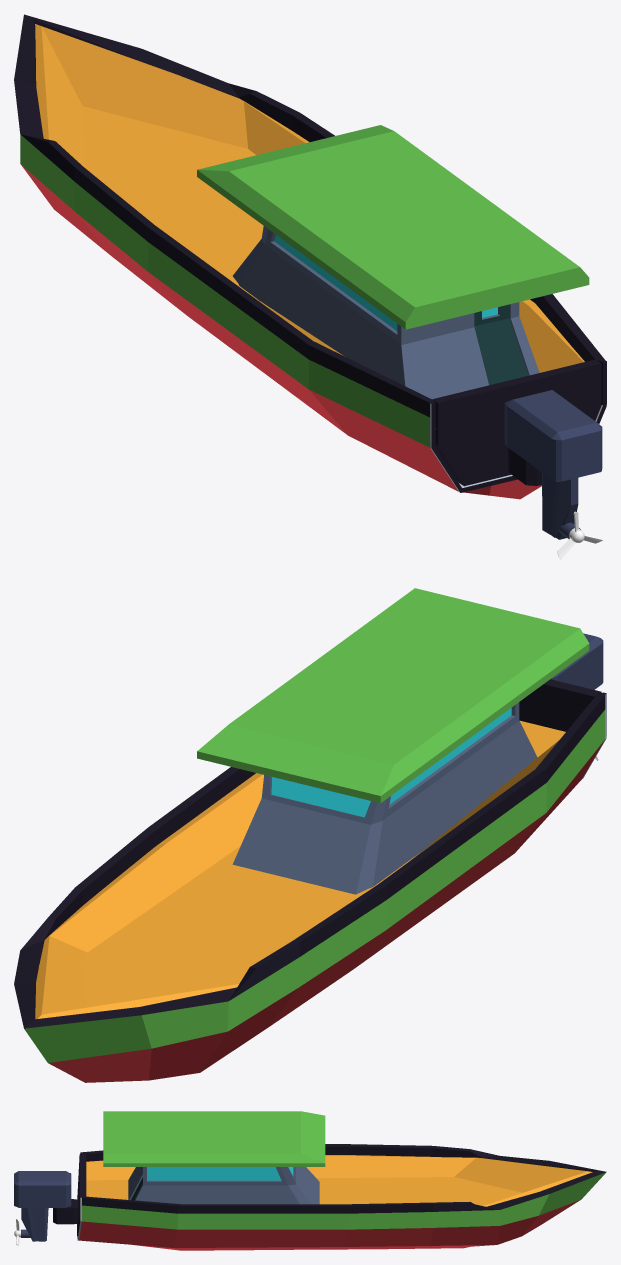
The model's file is boat1.fbx.
The picture shows the model from 3 angles, top to bottom: view 1: azimuth 30°, elevation 25°; view 2: azimuth 150°, elevation 25°; view 3: azimuth 270°, elevation 25°; orthographic projection. The views are drawn at different scales.
Visible parts, largest first — view 1: Plane.003, Mesin; view 2: Plane.003, Mesin; view 3: Plane.003, Mesin.
Part boxes in pixels (<box>): Plane.003: <box>14,14,606,499</box>; Mesin: <box>504,390,602,539</box>; Plane.003: <box>14,588,606,1082</box>; Mesin: <box>550,633,603,689</box>; Plane.003: <box>53,1111,606,1250</box>; Mesin: <box>14,1171,71,1241</box>.
Size of the model in its own units: 253 by 1027 by 225.
